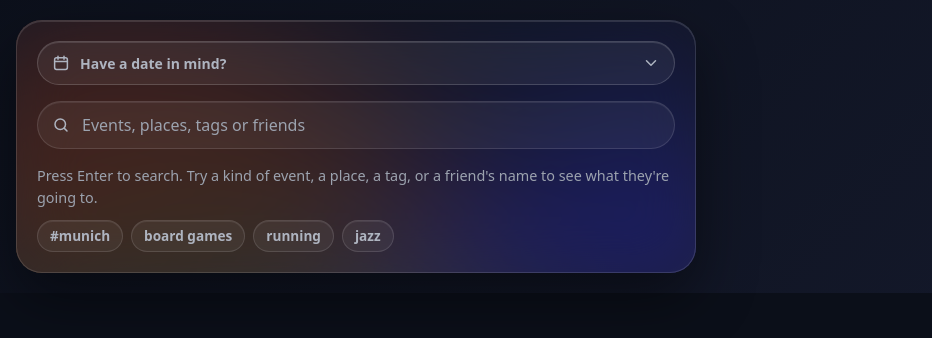
Test case: asks for at least two letters
The width and height of the screenshot is (932, 338).
Type "j" into the search field named "Search events".
click(373, 125); type("j")  # box 80,112 -> 666,138
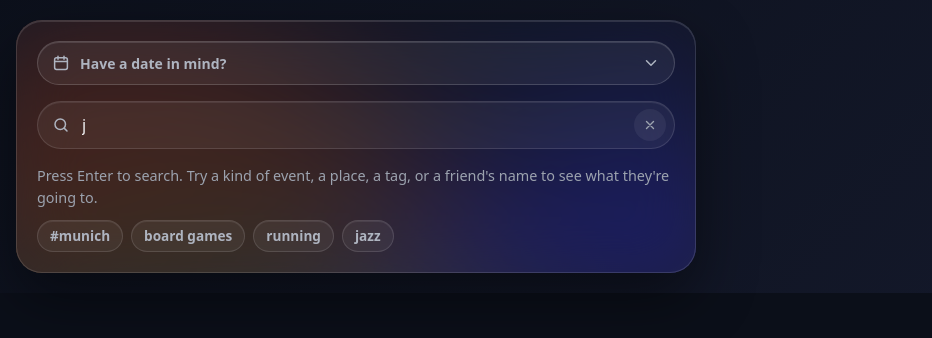
Submit the form from the search field named "Search events", box 80,112 -> 624,138
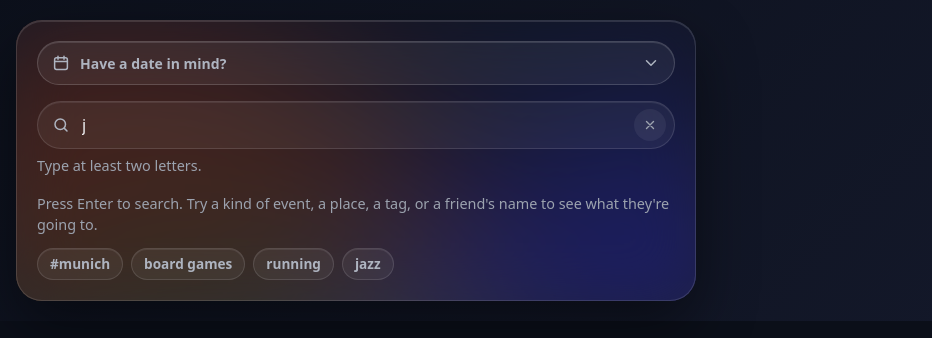
expect the message reads "Type at least two letters.": met, box 37,156 -> 202,175
